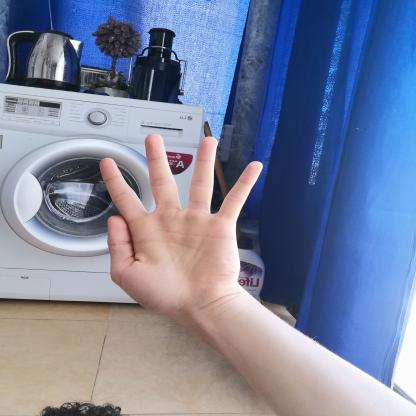SHEEN: (88, 125, 270, 324)
